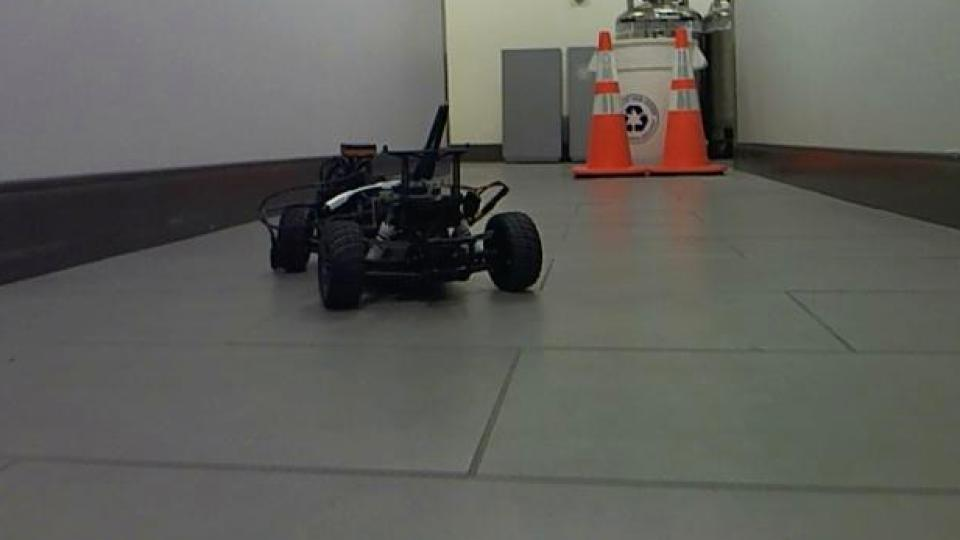car: (256, 101, 547, 314)
